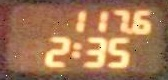-: (123, 27, 132, 34)
1: (74, 9, 87, 32), (96, 8, 108, 32)
2: (42, 35, 69, 68)
3: (81, 35, 106, 68)
5: (106, 36, 129, 68)
6: (130, 8, 152, 35)
7: (111, 7, 129, 32)
X: (70, 41, 81, 58)
